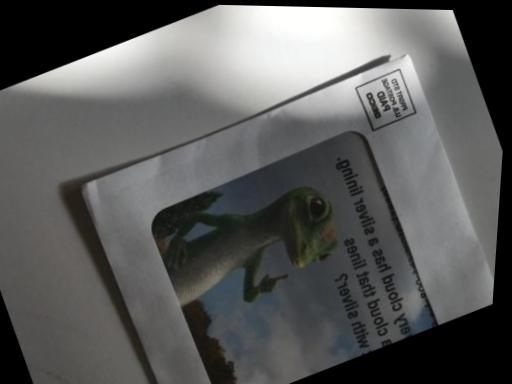paper: (33, 8, 500, 383)
